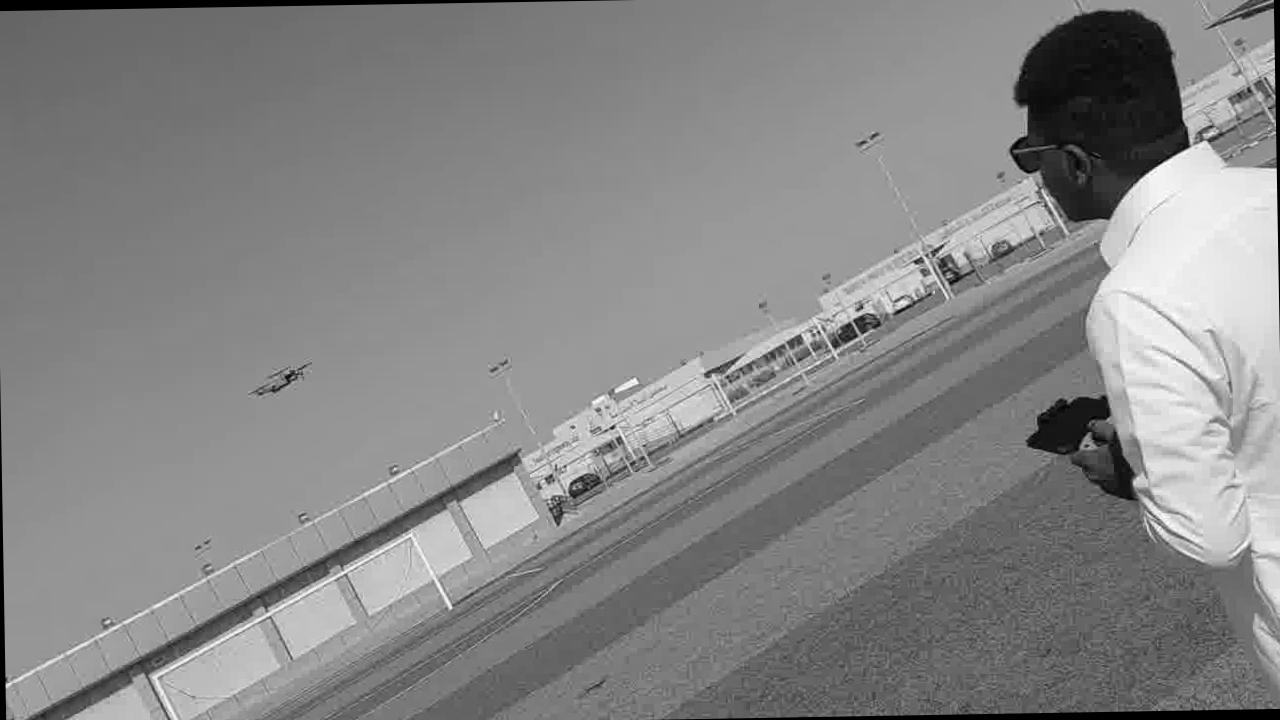drone: (244, 351, 320, 400)
